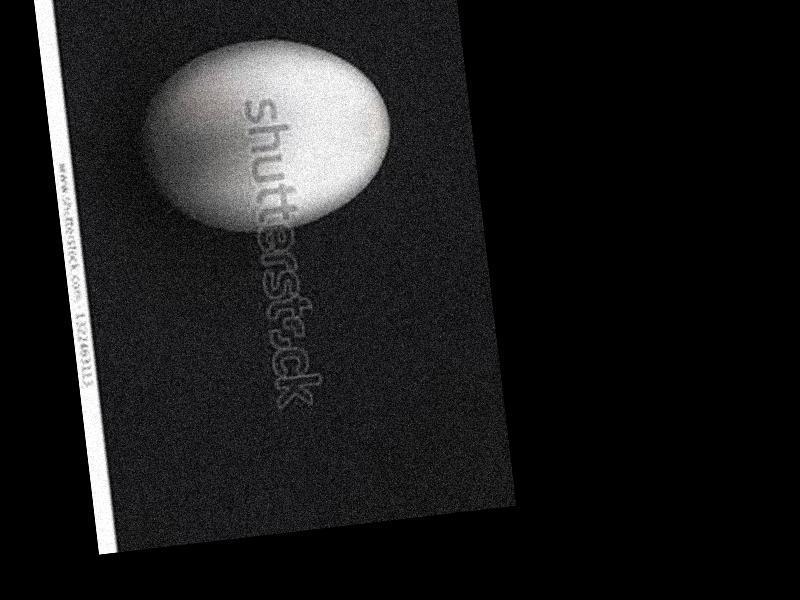Eggs: (133, 24, 402, 239)
